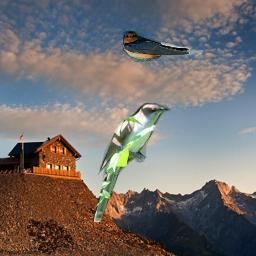Cuckoo: (93, 103, 171, 222)
Swallow: (121, 29, 203, 62)
